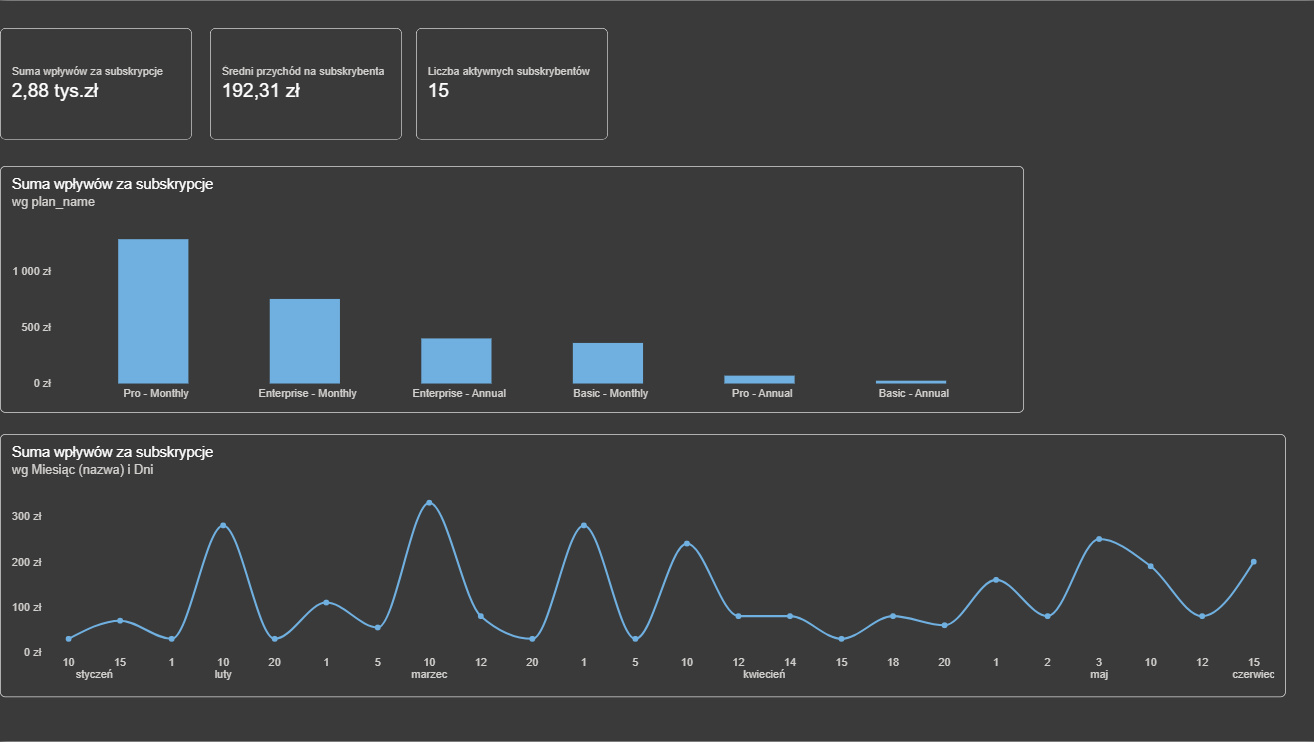

Layout of this report page (visuals, bound fields, positions):
{"tool":"powerbi","page":{"name":"Przegląd Biznesu","canvas":[1920,1080],"ordinal":0},"visuals":[{"type":"cardVisual","fields":{"Data":["_Miary.Średni przychód na użytkownika"]},"box":[306.4,39.4,280.1,163.4],"z":3},{"type":"cardVisual","fields":{"Data":["_Miary.Liczba aktywnych użytkowników"]},"box":[606.9,39.4,280,163],"z":4},{"type":"cardVisual","fields":{"Data":["_Miary.Suma wpływów za subskrypcje"]},"box":[0,39.4,280.1,163.4],"z":5},{"type":"lineChart","fields":{"Category":["Kalendarz.Miesiąc (nazwa)","Kalendarz.Dni"],"Y":["_Miary.Suma wpływów za subskrypcje"]},"box":[0,631.7,1876.2,383.7],"z":6},{"type":"columnChart","fields":{"Category":["dim_plans.plan_name"],"Y":["_Miary.Suma wpływów za subskrypcje"]},"box":[0,240.7,1494,360.4],"z":7}]}

Visuals, with their boxes in screenshot pixels (x1, y1, x2, y2), scaled from the page's 1920x1080 canvas onto the 1314x742 screenshot:
cardVisual - _Miary.Średni przychód na użytkownika: 210 27 401 139
cardVisual - _Miary.Liczba aktywnych użytkowników: 415 27 607 139
cardVisual - _Miary.Suma wpływów za subskrypcje: 0 27 192 139
lineChart - Kalendarz.Miesiąc (nazwa) x Kalendarz.Dni: 0 434 1284 698
columnChart - dim_plans.plan_name x _Miary.Suma wpływów za subskrypcje: 0 165 1022 413
